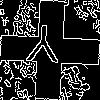Y: (25, 25, 60, 72)
